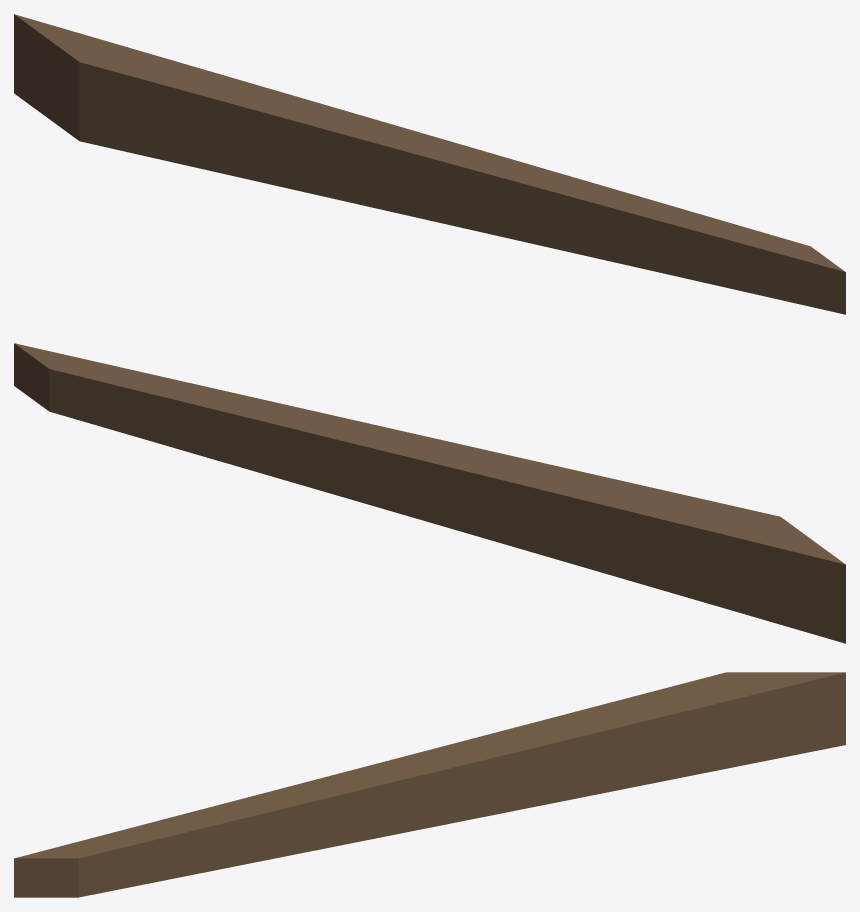
The model's file is Quinquereme_Hull.fbx.
3 views of the same model, one above another, from view 1: azimuth 30°, elevation 25°; view 2: azimuth 210°, elevation 25°; view 3: azimuth 270°, elevation 25° (orthographic). The views are drawn at different scales.
Visible parts, largest first — view 1: Quinquereme_Hull; view 2: Quinquereme_Hull; view 3: Quinquereme_Hull.
Part boxes in pixels (box(x1,y1,x2,y2)): Quinquereme_Hull: box(14, 14, 845, 314); Quinquereme_Hull: box(14, 343, 845, 643); Quinquereme_Hull: box(14, 672, 845, 897).
Bounding box in the file's own units: 13 × 2.6 × 27.
